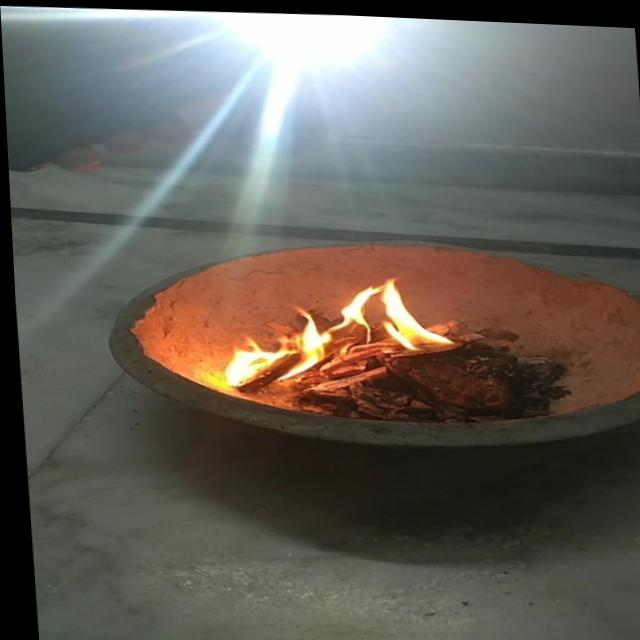fire: (321, 270, 453, 354), (210, 299, 326, 388)
